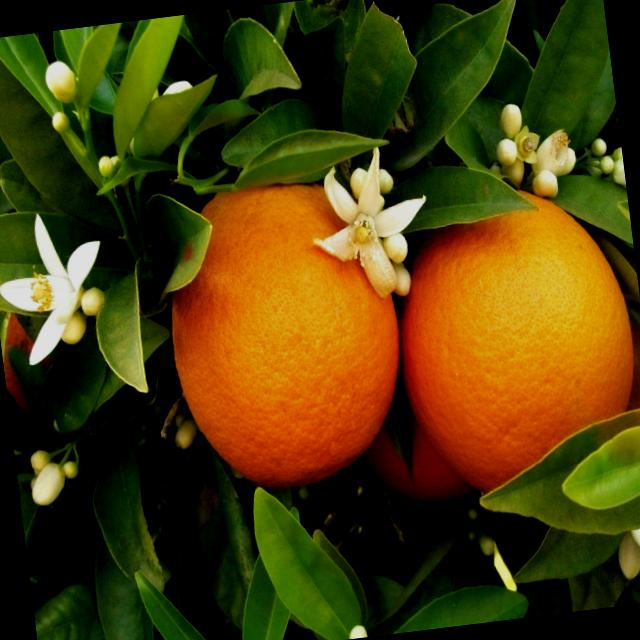orange: (146, 140, 431, 498), (380, 160, 640, 508)
